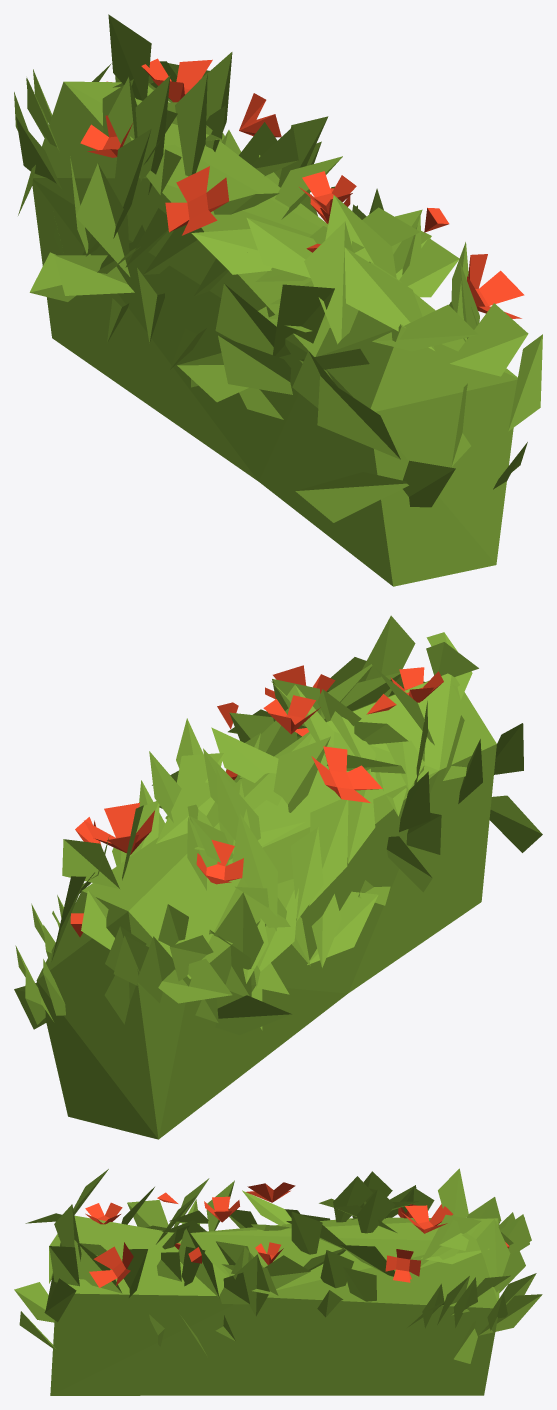
Rendered from SM_Fence_Hedge_City_Short_Flower_1m.fbx.
The picture shows the model from 3 angles, top to bottom: view 1: azimuth 30°, elevation 25°; view 2: azimuth 150°, elevation 25°; view 3: azimuth 270°, elevation 25°; orthographic projection. The views are drawn at different scales.
Visible parts, largest first — view 1: SM_Fence_Hedge_City_Short_Flower_1m; view 2: SM_Fence_Hedge_City_Short_Flower_1m; view 3: SM_Fence_Hedge_City_Short_Flower_1m.
Part boxes in pixels (bbox=[...]): SM_Fence_Hedge_City_Short_Flower_1m: bbox=[14, 14, 542, 586]; SM_Fence_Hedge_City_Short_Flower_1m: bbox=[14, 615, 542, 1139]; SM_Fence_Hedge_City_Short_Flower_1m: bbox=[14, 1168, 542, 1395].
Size of the model in its own units: 0.4977 by 0.5684 by 1.31.
